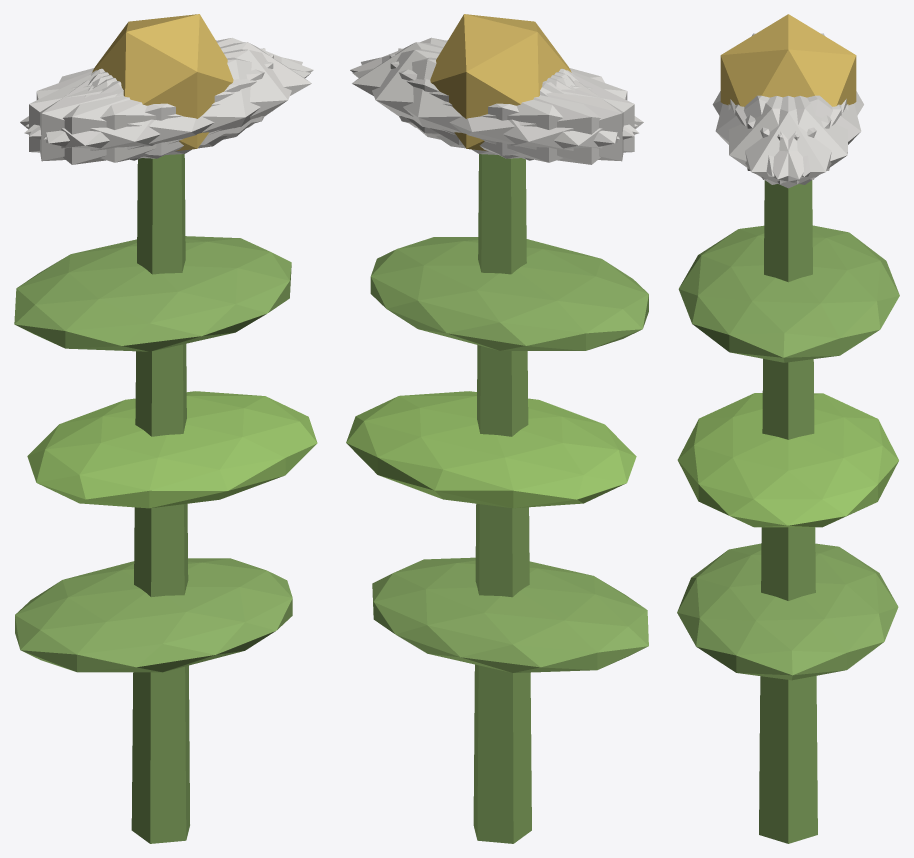
Rendered from thalictrum-dioicum.glb.
3 renders of one model, left to right at view 1: azimuth 30°, elevation 25°; view 2: azimuth 150°, elevation 25°; view 3: azimuth 270°, elevation 25°, orthographic.
Visible parts, largest first — view 1: stem, leaf1, leaf2, leaf0, center, petal1, petal6, petal2, petal5, petal7, petal0, petal4 (+2 smaller); view 2: stem, leaf1, leaf2, leaf0, center, petal8, petal3, petal7, petal4, petal2, petal0, petal5 (+2 smaller); view 3: stem, leaf1, leaf2, leaf0, center, petal0, petal4, petal5, petal1, petal8.
Part boxes in pixels (left/top/right/bottom): stem: left=131, top=154, right=189, bottom=843; leaf1: left=27, top=391, right=317, bottom=508; leaf2: left=14, top=236, right=291, bottom=351; leaf0: left=15, top=558, right=292, bottom=672; center: left=92, top=14, right=233, bottom=151; petal1: left=24, top=57, right=310, bottom=162; petal6: left=20, top=70, right=227, bottom=164; petal2: left=40, top=48, right=265, bottom=161; petal5: left=43, top=49, right=302, bottom=155; petal7: left=29, top=54, right=273, bottom=158; petal0: left=92, top=42, right=311, bottom=145; petal4: left=25, top=37, right=313, bottom=136; stem: left=473, top=154, right=531, bottom=843; leaf1: left=346, top=391, right=636, bottom=508; leaf2: left=370, top=237, right=648, bottom=350; leaf0: left=372, top=557, right=648, bottom=672; center: left=430, top=14, right=571, bottom=150; petal8: left=352, top=57, right=638, bottom=162; petal3: left=436, top=70, right=643, bottom=164; petal7: left=398, top=48, right=623, bottom=161; petal4: left=361, top=49, right=619, bottom=155; petal2: left=389, top=54, right=634, bottom=158; petal0: left=352, top=42, right=571, bottom=145; petal5: left=350, top=37, right=637, bottom=136; stem: left=759, top=180, right=817, bottom=843; leaf1: left=677, top=393, right=898, bottom=527; leaf2: left=678, top=225, right=899, bottom=362; leaf0: left=677, top=543, right=898, bottom=680; center: left=720, top=14, right=856, bottom=106; petal0: left=730, top=96, right=846, bottom=188; petal4: left=735, top=96, right=848, bottom=184; petal5: left=728, top=96, right=841, bottom=184; petal1: left=715, top=95, right=831, bottom=176; petal8: left=745, top=95, right=861, bottom=176.
Bounding box in the file's own units: 0.1497 × 0.3978 × 0.1005.
